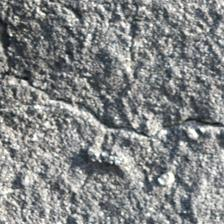Crack: (3, 34, 219, 113)
